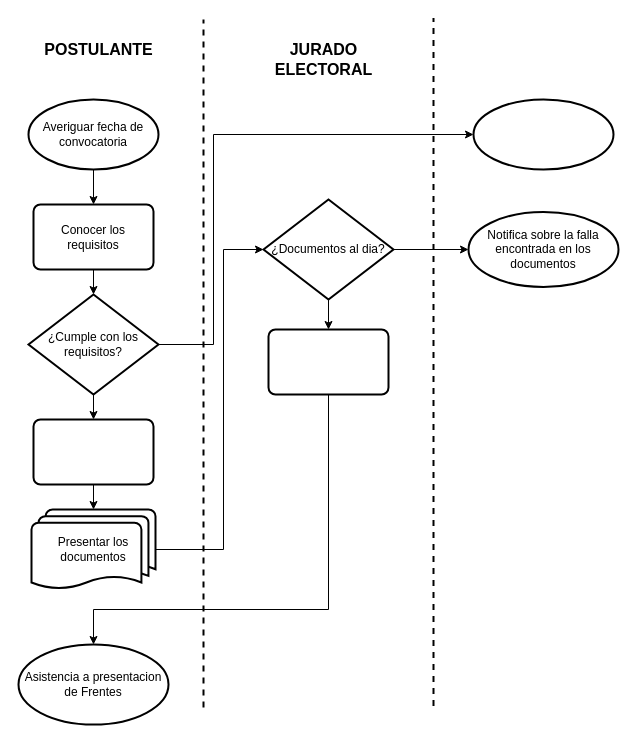
The diagram is 636 pixels wide and 743 high, and some of its shapes have lost their labels. The shapes that lost their labels are listed below. From the top down, each one's centre as x and y in pixels, then its label:
At point (543, 134): "No puede inscribirse a las elecciones".
At point (328, 361): "Notificacion Exitosa de documentos".
At point (93, 451): "Preparar los documentos solicitados".
